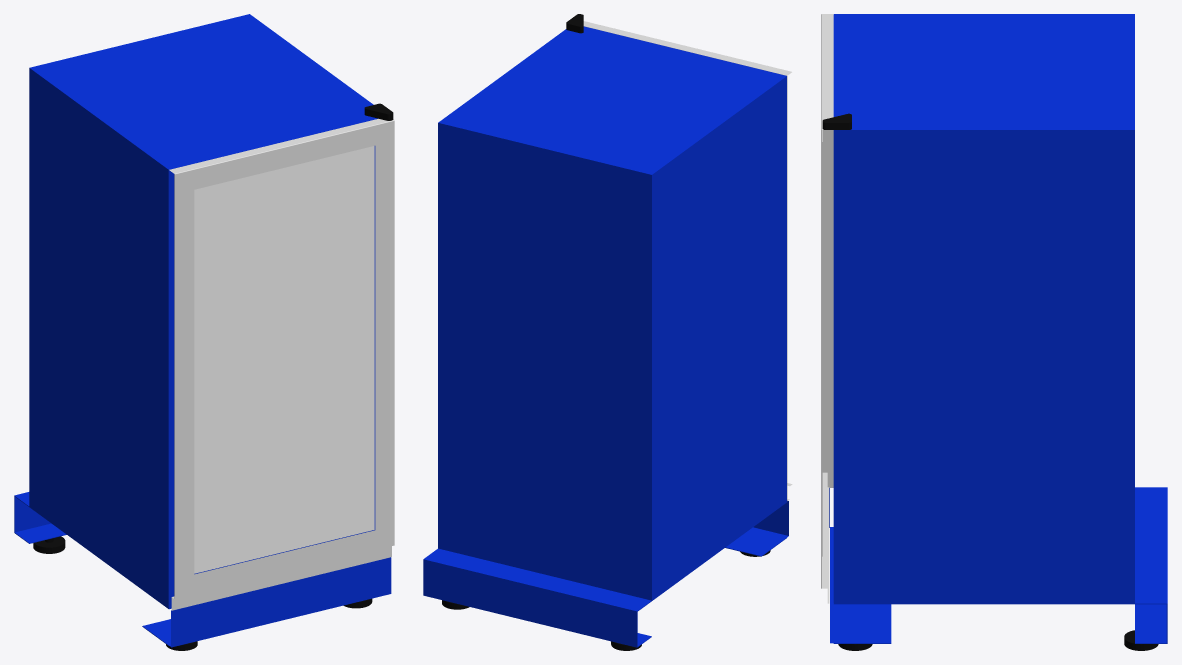
Rendered from beverageCenterLux.glb.
3 views of the same model, side by side, from view 1: azimuth 30°, elevation 25°; view 2: azimuth 150°, elevation 25°; view 3: azimuth 270°, elevation 25° (orthographic). The views are drawn at different scales.
Visible parts, largest first — view 1: DBC117A1BSSDB-6_1, DBC117A1BSSDB-6.004, DBC117A1BSSDB-6_0_0, DBC117A1BSSDB-6.010; view 2: DBC117A1BSSDB-6_1, DBC117A1BSSDB-6_0_0; view 3: DBC117A1BSSDB-6_1, DBC117A1BSSDB-6_0_0, DBC117A1BSSDB-6.010.
Boxes of the visible parts, x1,y1,x2,y2 form: DBC117A1BSSDB-6_1: [14, 14, 391, 647]; DBC117A1BSSDB-6.004: [194, 146, 374, 573]; DBC117A1BSSDB-6_0_0: [169, 118, 394, 610]; DBC117A1BSSDB-6.010: [33, 536, 372, 650]; DBC117A1BSSDB-6_1: [423, 26, 788, 647]; DBC117A1BSSDB-6_0_0: [583, 21, 792, 501]; DBC117A1BSSDB-6_1: [829, 14, 1167, 643]; DBC117A1BSSDB-6_0_0: [821, 14, 833, 603]; DBC117A1BSSDB-6.010: [838, 630, 1158, 650].
Size of the model in its own units: 0.4381 by 0.9382 by 0.5523.
